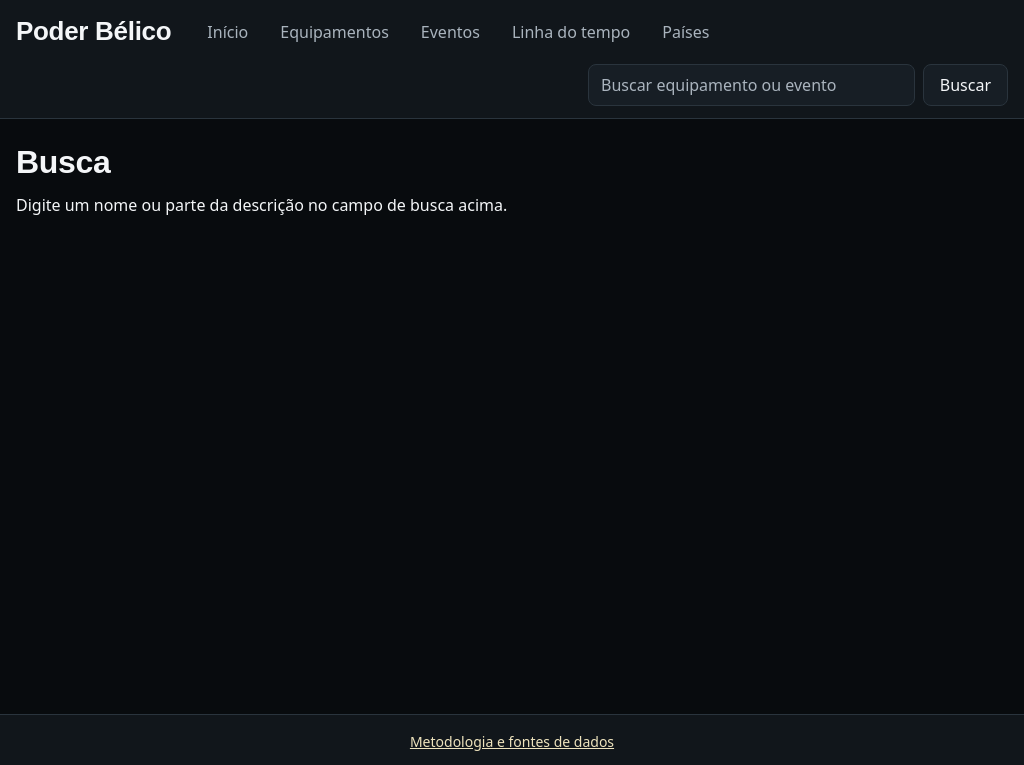
Test: rodapé leva à página de metodologia
Click the link "Metodologia e fontes de dados" at coordinates (512, 742), box left=410, top=732, right=614, bottom=751
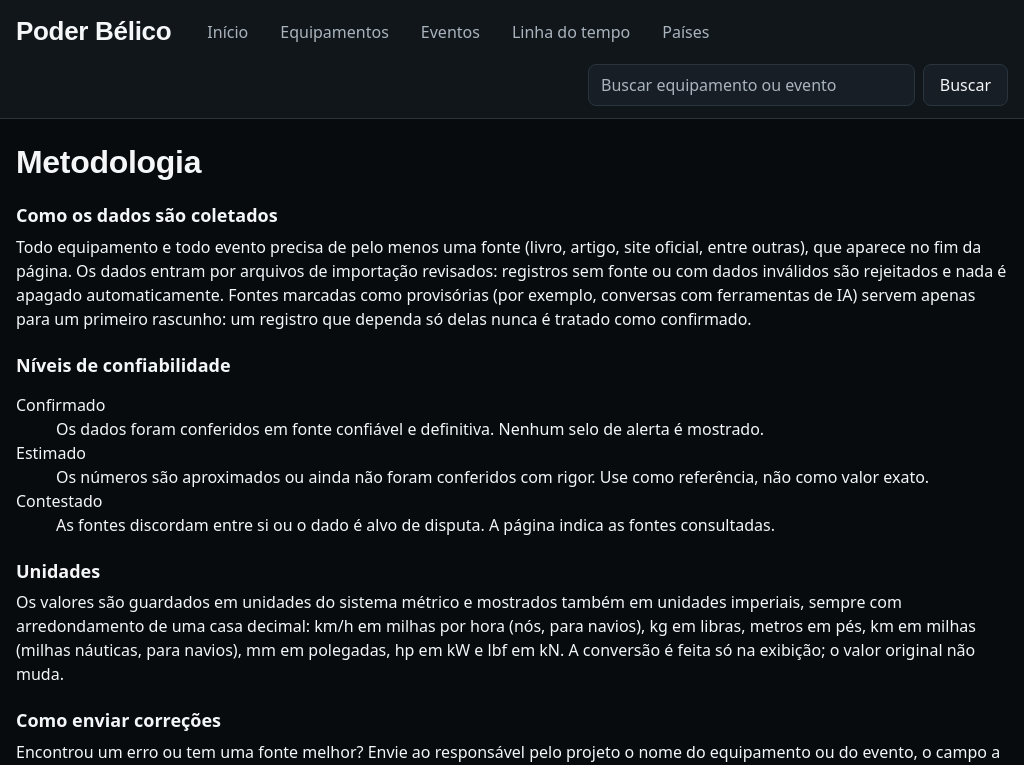
Check: the heading "Metodologia" is shown, box left=16, top=144, right=201, bottom=180
Check: the heading "Níveis de confiabilidade" is shown, box left=16, top=353, right=230, bottom=377
